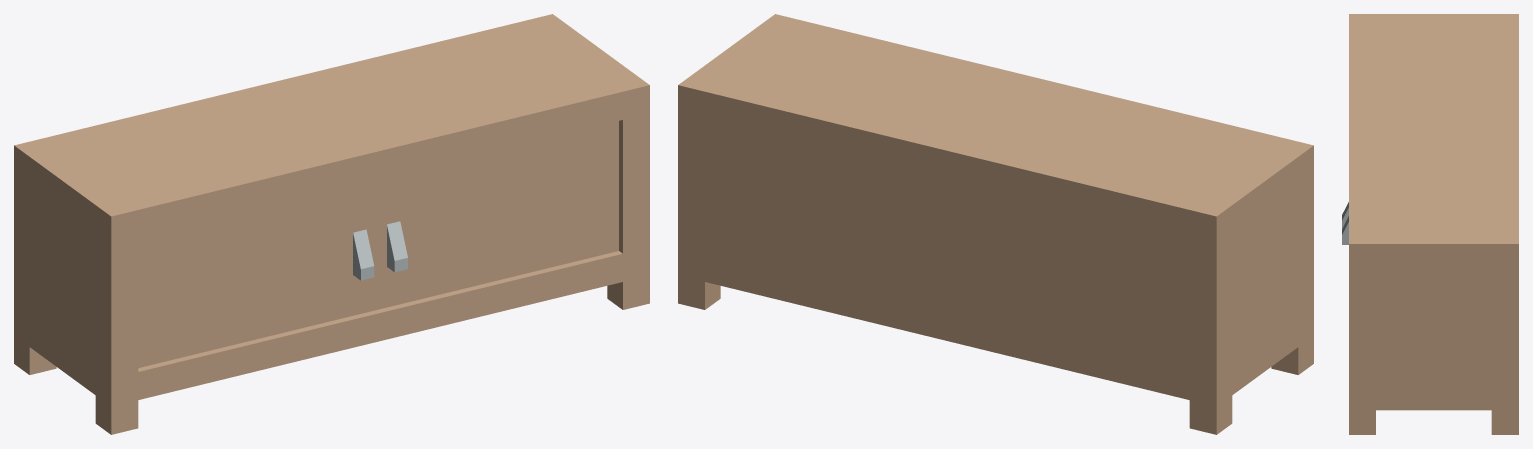
File: cabinetTelevisionDoors.glb
3 renders of one model, left to right at view 1: azimuth 30°, elevation 25°; view 2: azimuth 150°, elevation 25°; view 3: azimuth 270°, elevation 25°, orthographic. The views are drawn at different scales.
Parts seen in each view (by area): view 1: cabinetTelevisionDoors; view 2: cabinetTelevisionDoors; view 3: cabinetTelevisionDoors.
Boxes of the visible parts, bbox=[...] form: cabinetTelevisionDoors: bbox=[14, 14, 649, 434]; cabinetTelevisionDoors: bbox=[678, 14, 1313, 434]; cabinetTelevisionDoors: bbox=[1342, 14, 1518, 434].
Size of the model in its own units: 0.8 by 0.31 by 0.26.
